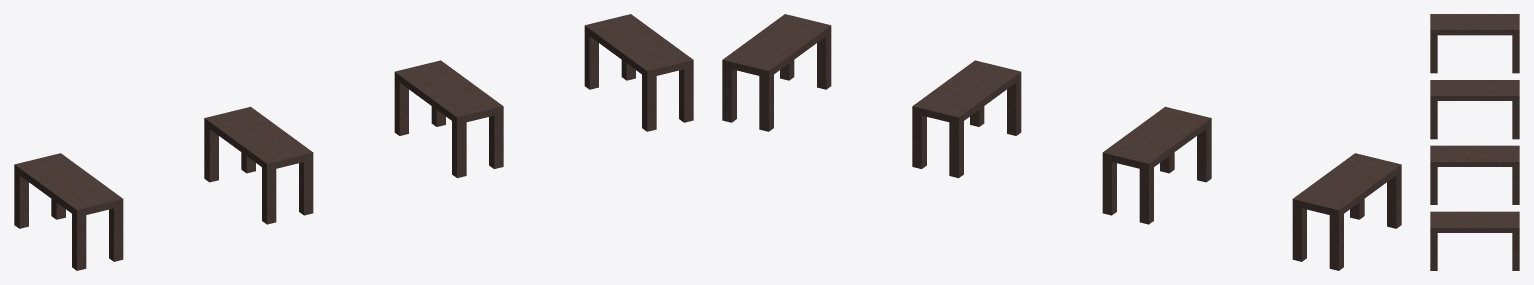
File: Conveyor Struts.fbx
The picture shows the model from 3 angles, left to right: view 1: azimuth 30°, elevation 25°; view 2: azimuth 150°, elevation 25°; view 3: azimuth 270°, elevation 25°; orthographic projection. The views are drawn at different scales.
Visible parts, largest first — view 1: Baked Conveyor Struts; view 2: Baked Conveyor Struts; view 3: Baked Conveyor Struts.
Boxes of the visible parts, x1,y1,x2,y2 form: Baked Conveyor Struts: (14,14,693,270); Baked Conveyor Struts: (722,14,1401,270); Baked Conveyor Struts: (1430,14,1519,270).
Size of the model in its own units: 478 by 45 by 84.13.
Materials: 1 (1 with a texture image).
